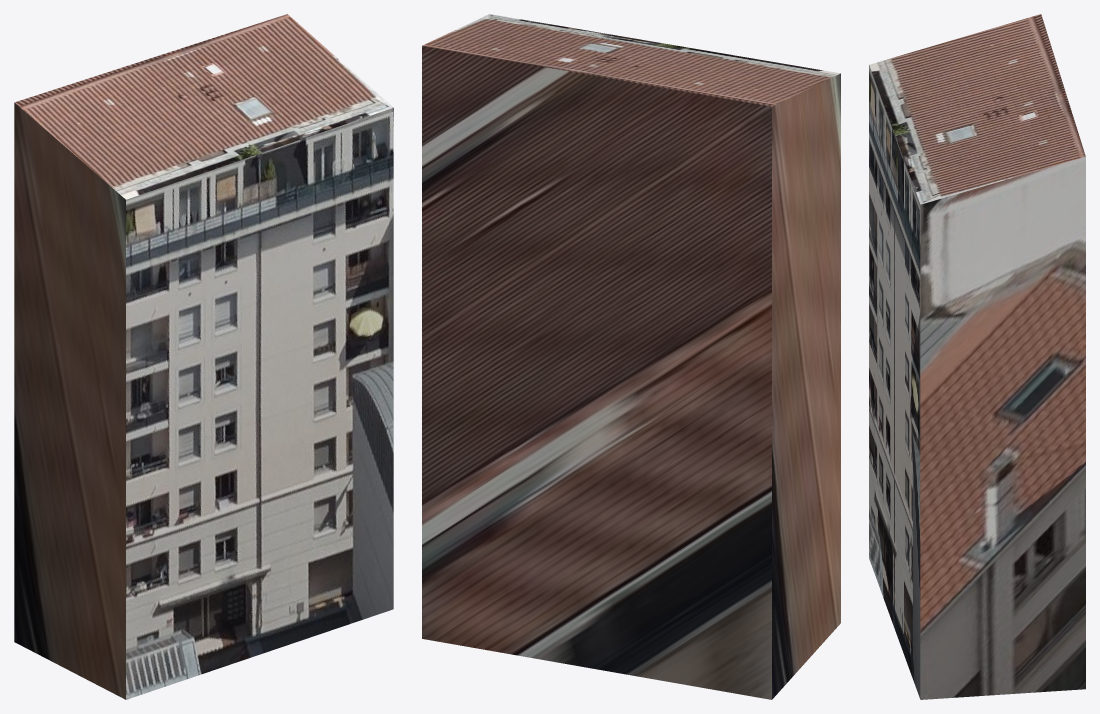
3 renders of one model, left to right at view 1: azimuth 30°, elevation 25°; view 2: azimuth 150°, elevation 25°; view 3: azimuth 270°, elevation 25°, orthographic. The views are drawn at different scales.
Visible parts, largest first — view 1: Z_UP; view 2: Z_UP; view 3: Z_UP.
Part boxes in pixels (<box>): Z_UP: <box>14,14,393,699</box>; Z_UP: <box>422,14,840,699</box>; Z_UP: <box>869,14,1085,699</box>.
Size of the model in its own units: 15.57 by 25.26 by 9.31.
2 materials, 1 textured.
